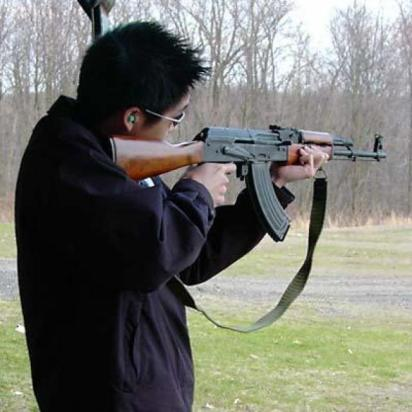Gun: (111, 116, 386, 242)
